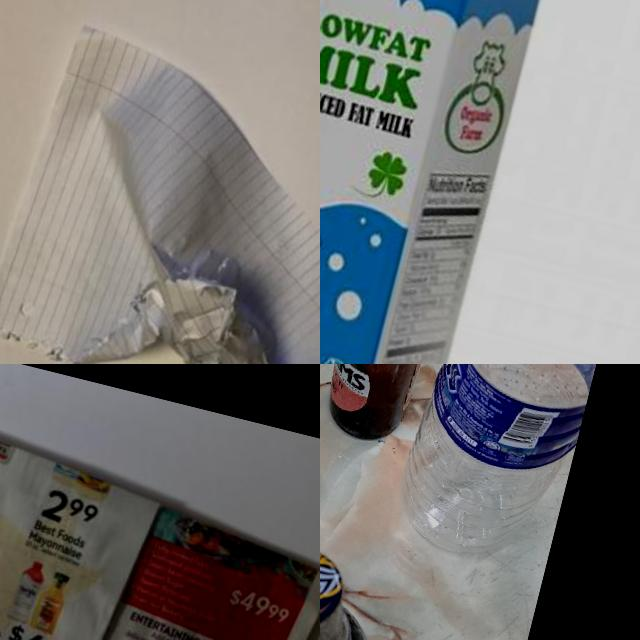caixinha: (320, 0, 574, 364)
garrafa de vidro: (320, 364, 466, 448)
garrafa plástica: (388, 364, 631, 575)
papel: (0, 11, 320, 364), (0, 364, 320, 640)
